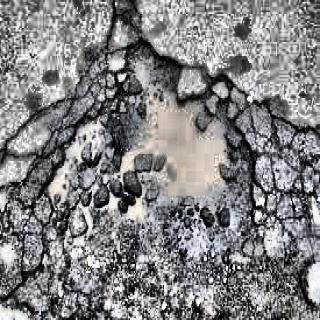pothole: (56, 35, 264, 246)
